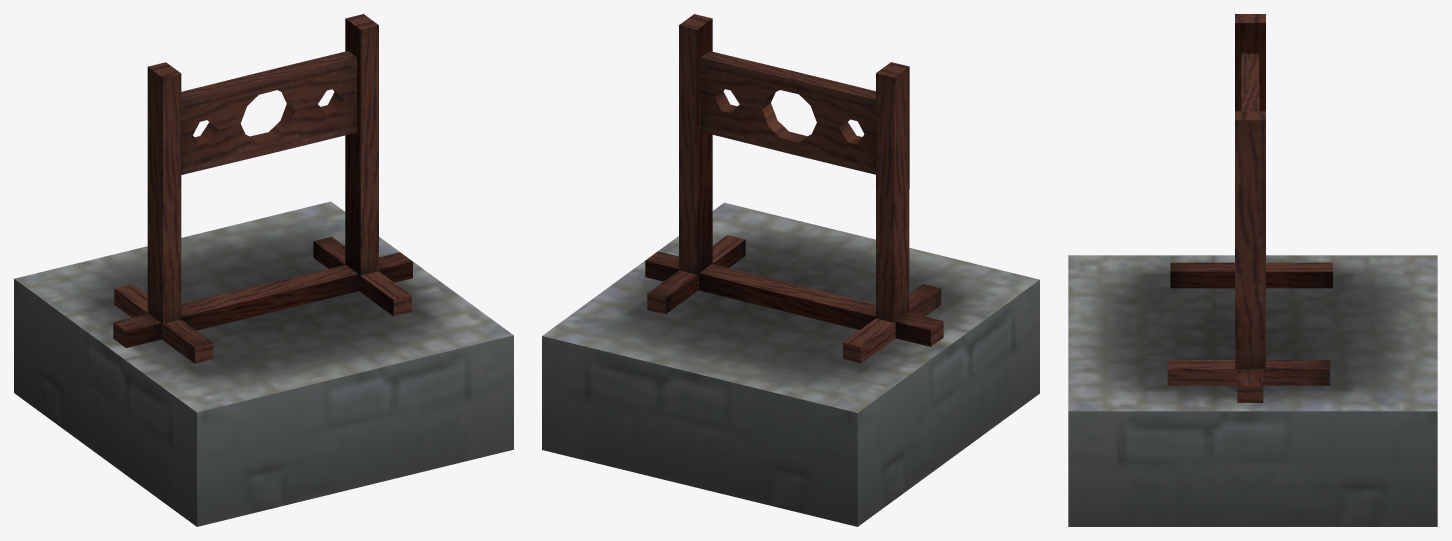
File: med_tile_stocks.obj
The picture shows the model from 3 angles, left to right: view 1: azimuth 30°, elevation 25°; view 2: azimuth 150°, elevation 25°; view 3: azimuth 270°, elevation 25°; orthographic projection.
Parts seen in each view (by area): view 1: boundary_stocks; view 2: boundary_stocks; view 3: boundary_stocks.
Boxes of the visible parts, box(x1,y1,x2,y2) form: boundary_stocks: box(14, 14, 513, 526); boundary_stocks: box(542, 14, 1039, 526); boundary_stocks: box(1068, 14, 1437, 526).
Size of the model in its own units: 1 by 1.14 by 1.
Materials: 1 (1 with a texture image).
